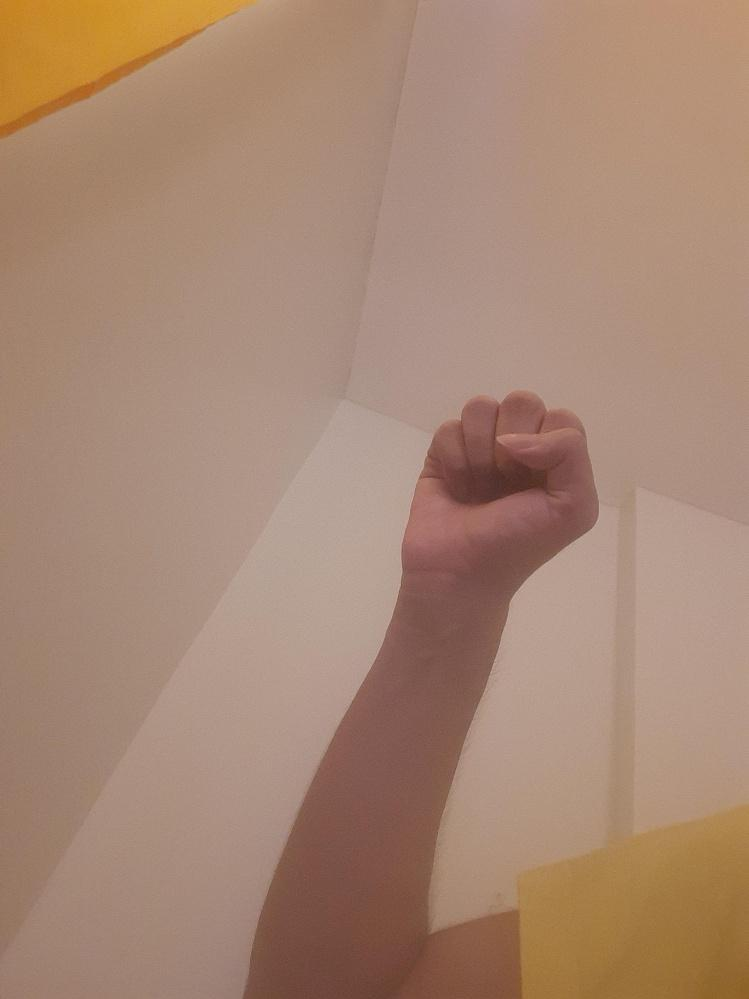s: (401, 391, 599, 571)
